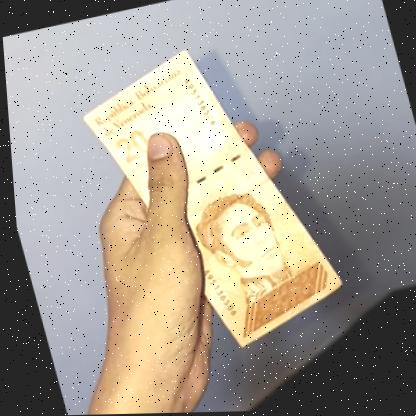twenty-front-vef: (66, 28, 352, 370)
